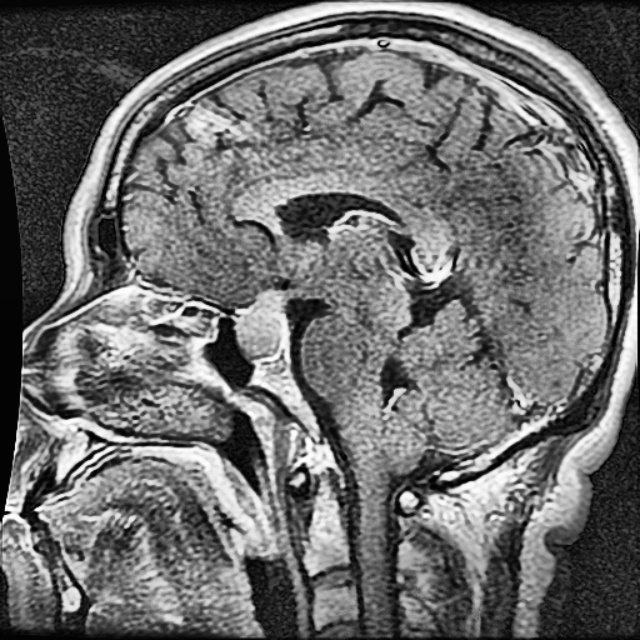Pituitary: (234, 290, 288, 359)
